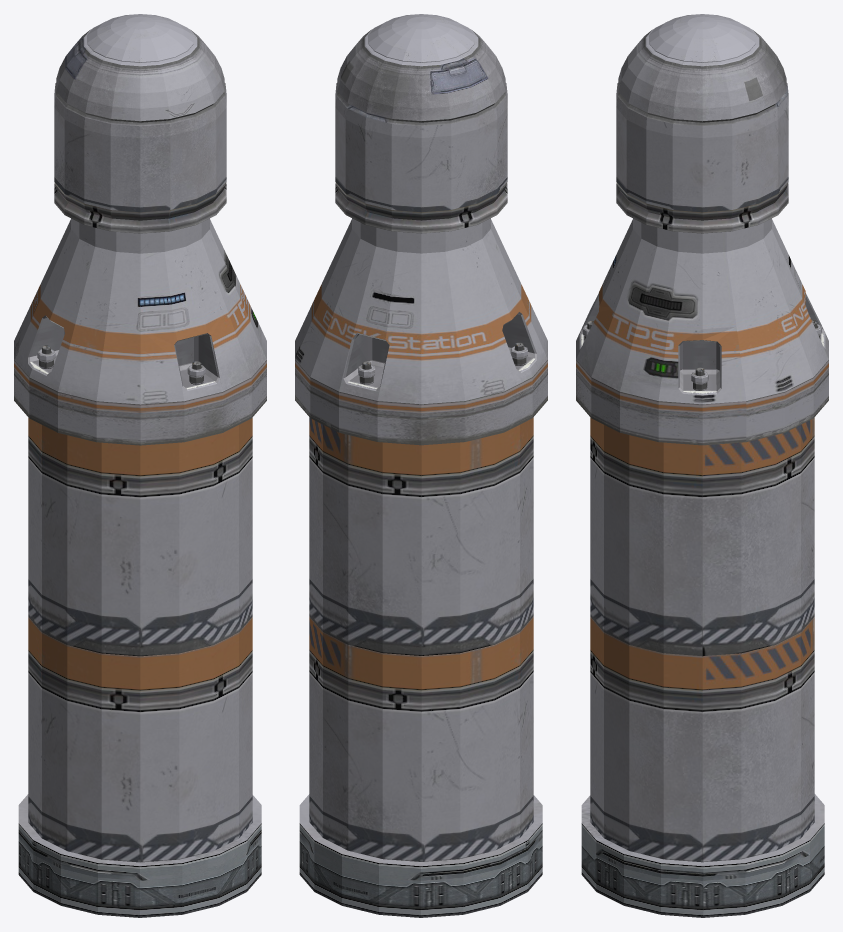
The model's file is 热风炉.obj.
The picture shows the model from 3 angles, left to right: view 1: azimuth 30°, elevation 25°; view 2: azimuth 150°, elevation 25°; view 3: azimuth 270°, elevation 25°; orthographic projection.
Visible parts, largest first — view 1: Object070, Capsule042, Capsule043, Object090; view 2: Object070, Capsule042, Capsule043, Object090; view 3: Object070, Capsule042, Capsule043, Object090.
Part boxes in pixels (x1=…): Object070: x1=28, y1=418, x2=252, y2=862; Capsule042: x1=14, y1=218, x2=266, y2=445; Capsule043: x1=54, y1=14, x2=226, y2=233; Object090: x1=18, y1=794, x2=261, y2=917; Object070: x1=309, y1=417, x2=533, y2=861; Capsule042: x1=295, y1=218, x2=547, y2=445; Capsule043: x1=335, y1=14, x2=507, y2=233; Object090: x1=299, y1=794, x2=542, y2=917; Object070: x1=590, y1=417, x2=814, y2=862; Capsule042: x1=576, y1=218, x2=828, y2=445; Capsule043: x1=616, y1=14, x2=788, y2=233; Object090: x1=581, y1=794, x2=824, y2=917.
Bounding box in the file's own units: 6.95 × 25.2 × 6.84.
